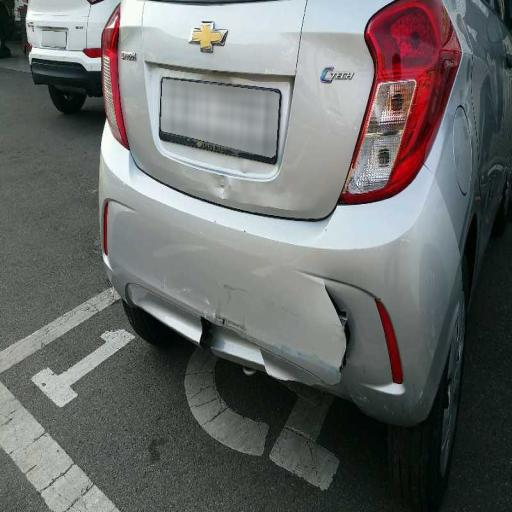broken: (218, 268, 408, 434)
scratch: (132, 205, 213, 331)
